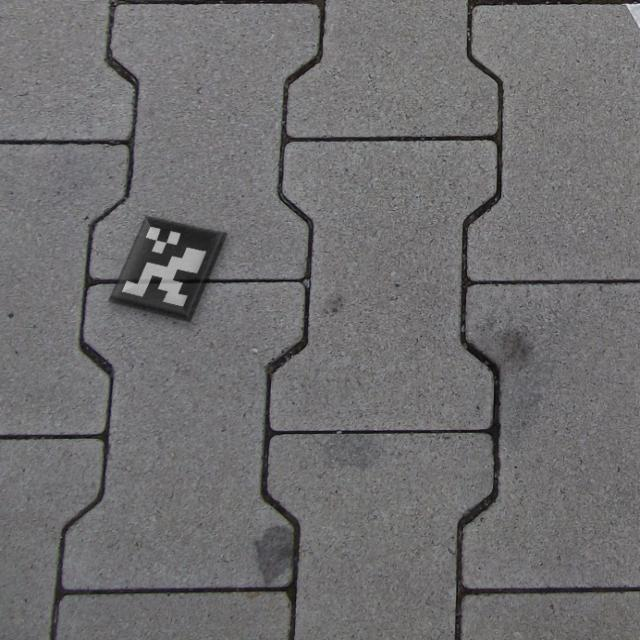marker: (107, 209, 233, 328)
